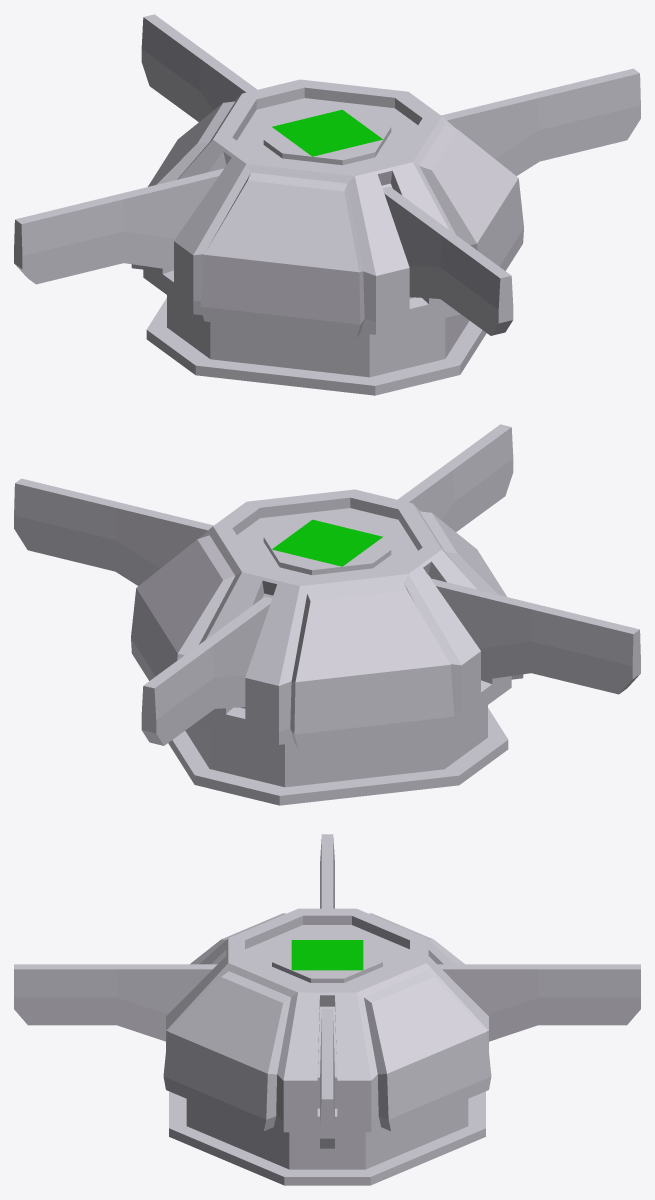
Rendered from fintube.fbx.
The picture shows the model from 3 angles, top to bottom: view 1: azimuth 30°, elevation 25°; view 2: azimuth 150°, elevation 25°; view 3: azimuth 270°, elevation 25°; orthographic projection. The views are drawn at different scales.
Parts seen in each view (by area): view 1: fintube; view 2: fintube; view 3: fintube.
Boxes of the visible parts, x1,y1,x2,y2 form: fintube: (14, 14, 640, 395); fintube: (14, 424, 640, 805); fintube: (14, 834, 640, 1185).
Size of the model in its own units: 3.59 by 1.06 by 3.59.
